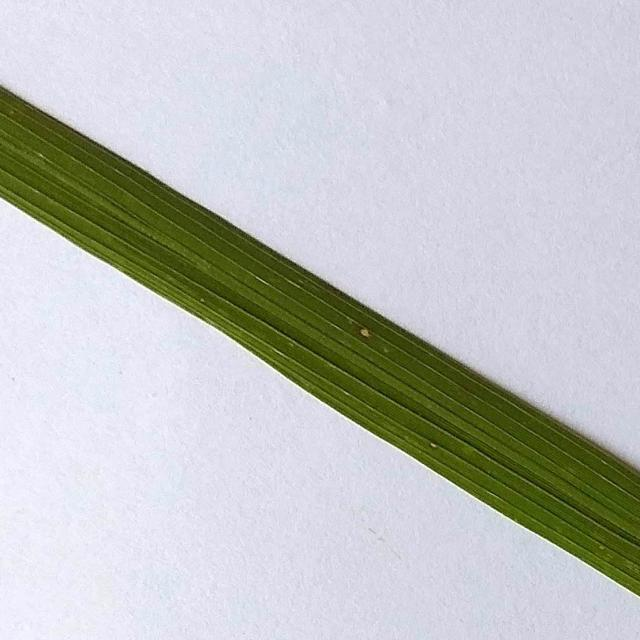Blast: (350, 324, 377, 345)
